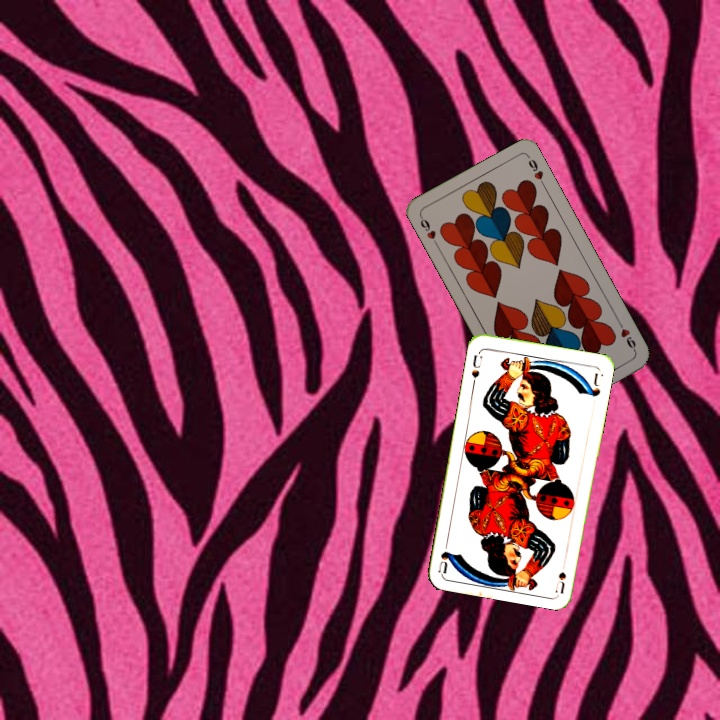H9: (416, 212, 441, 249), (614, 318, 639, 355)
SU: (467, 347, 485, 388), (551, 554, 569, 595)
